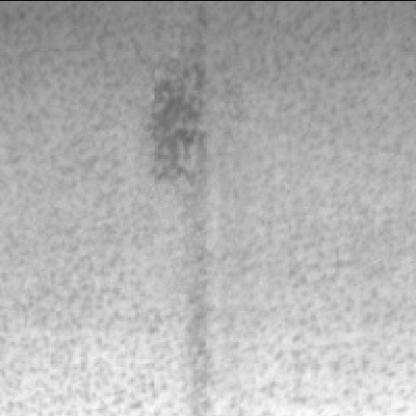pitted_surface: (8, 6, 414, 414)
